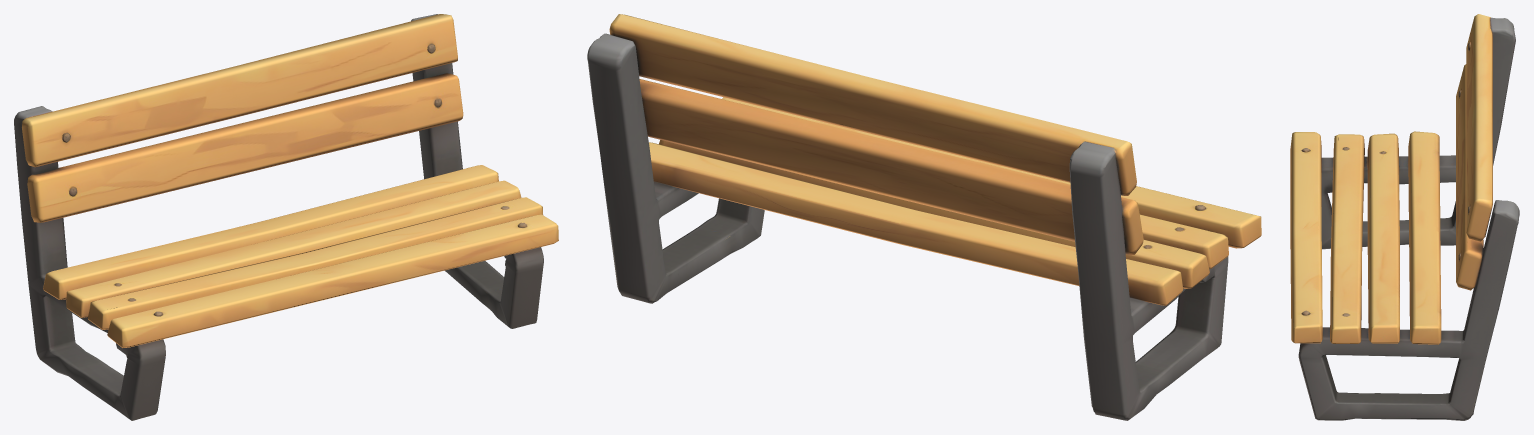
File: bench.glb
3 views of the same model, side by side, from view 1: azimuth 30°, elevation 25°; view 2: azimuth 150°, elevation 25°; view 3: azimuth 270°, elevation 25° (orthographic). The views are drawn at different scales.
Parts seen in each view (by area): view 1: tripo_node_kodyurd-model-1_____________________; view 2: tripo_node_kodyurd-model-1_____________________; view 3: tripo_node_kodyurd-model-1_____________________.
Part boxes in pixels (x1,y1,x2,y2): tripo_node_kodyurd-model-1_____________________: (14,14,558,420); tripo_node_kodyurd-model-1_____________________: (587,14,1261,420); tripo_node_kodyurd-model-1_____________________: (1290,14,1519,420).
Bounding box in the file's own units: 0.998 × 0.5215 × 0.4863.
1 material, 1 textured.
